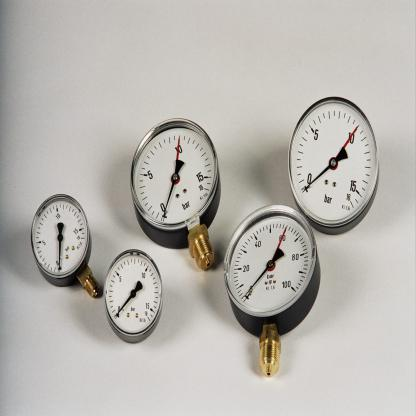needle: (243, 267, 269, 297), (163, 181, 176, 219), (116, 295, 133, 317)
